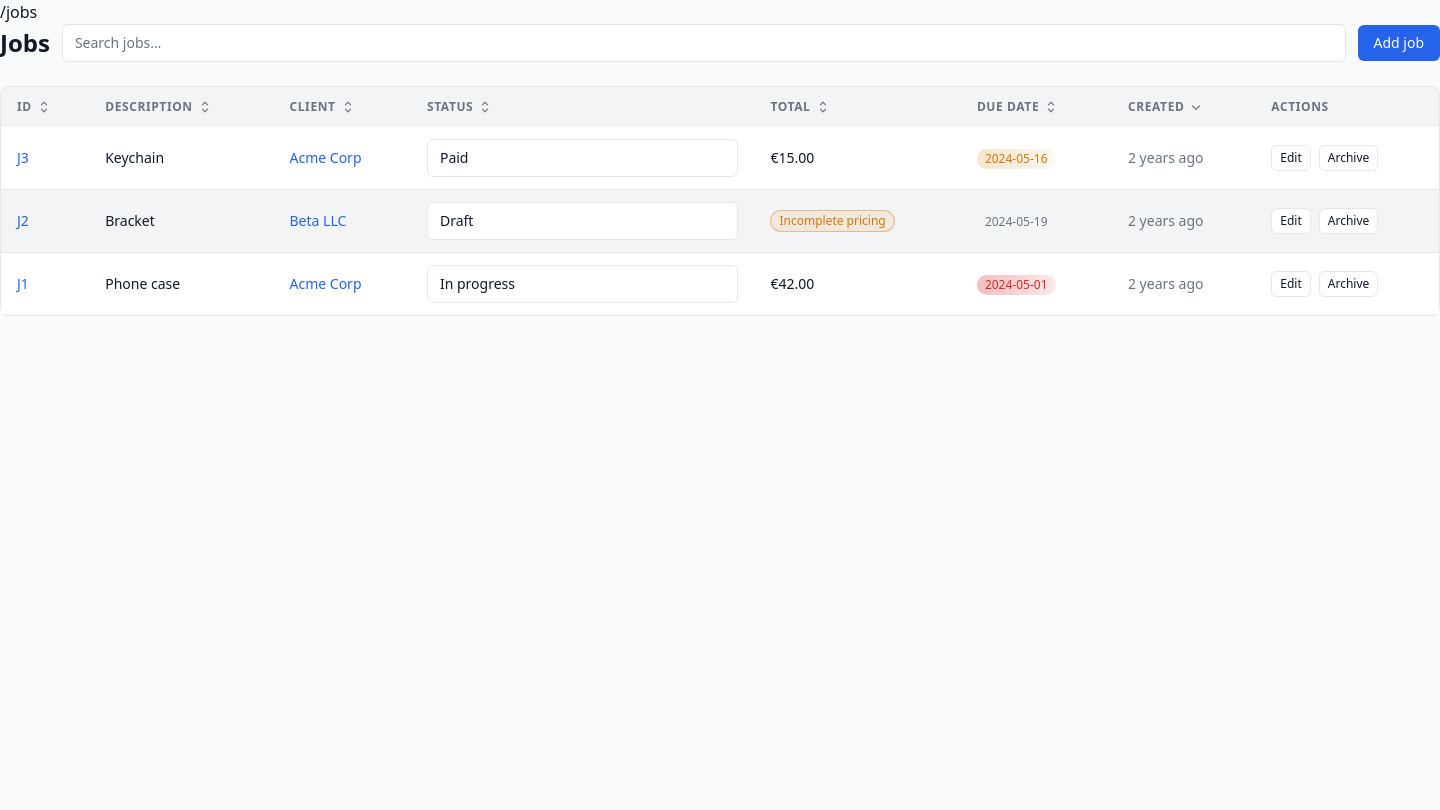
JobsPage › keeps the job when the archive is cancelled
Click the button with test id "job-archive-J1" at point(1349, 284), box [1319,271,1378,297]
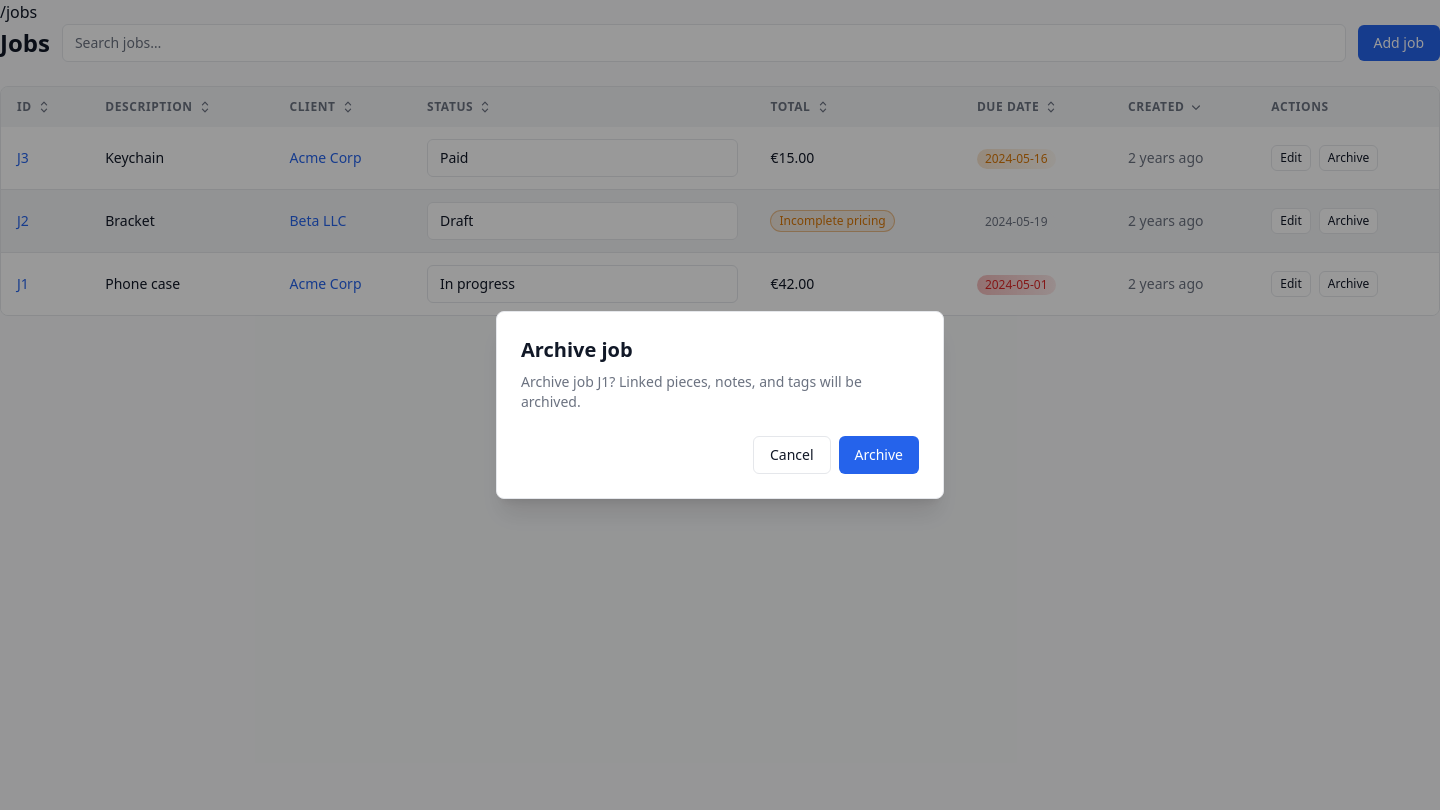
Click the button "Cancel" at point(792, 455), box [753,436,831,474]
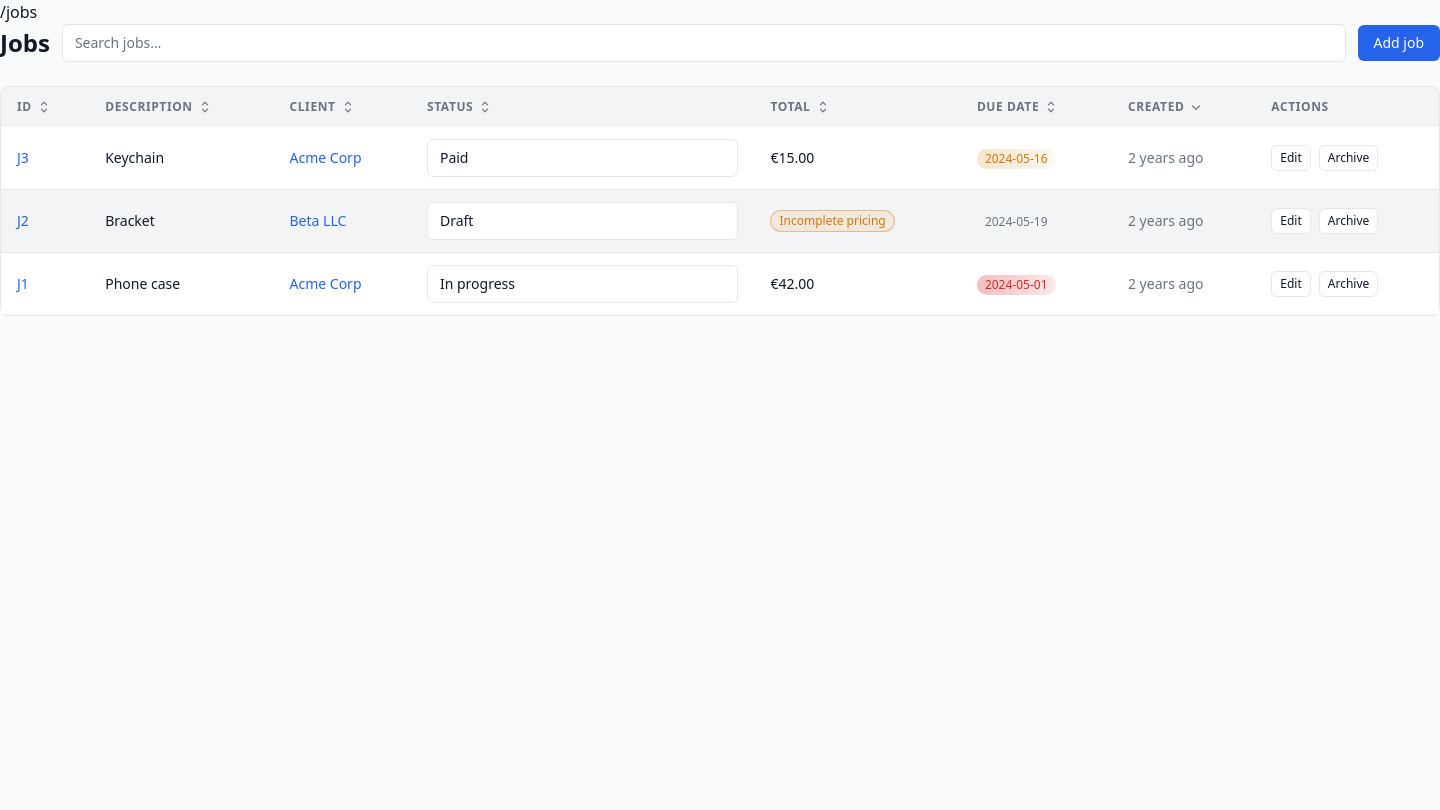
Expected: the dialog is gone
